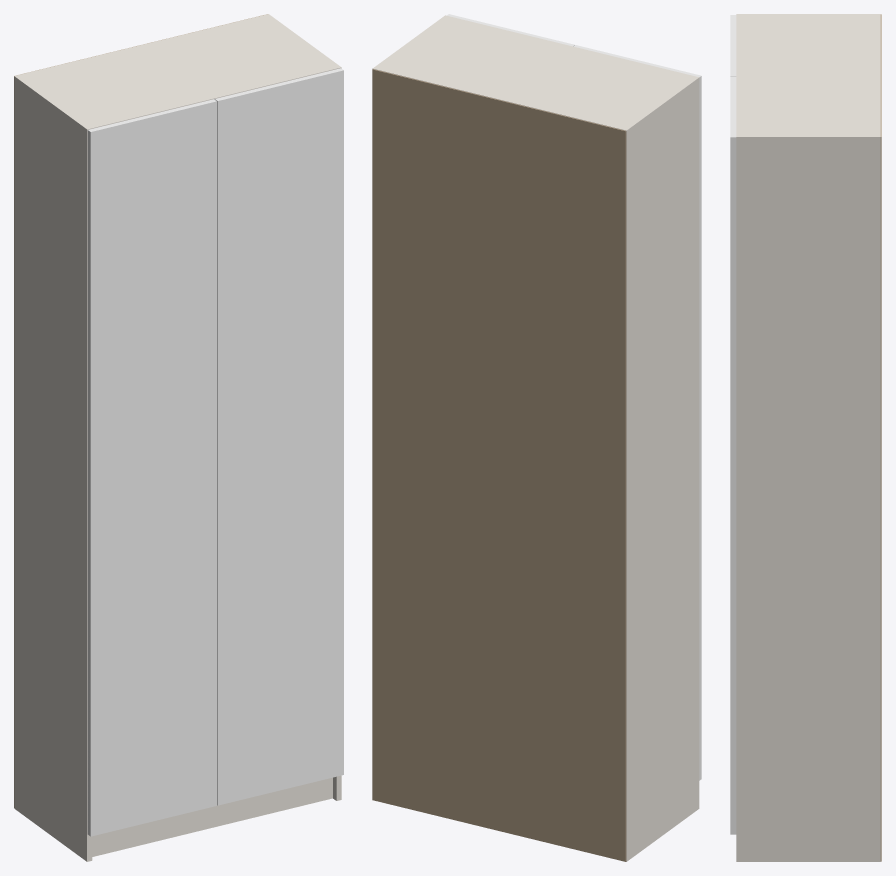
The model's file is шкаф.dae.
The picture shows the model from 3 angles, left to right: view 1: azimuth 30°, elevation 25°; view 2: azimuth 150°, elevation 25°; view 3: azimuth 270°, elevation 25°; orthographic projection.
Visible parts, largest first — view 1: Есік (сол), Есік (оң), Бүйір (сол), Төбе, Цоколь алдыңғы, Артқы қабырға, Бүйір (оң); view 2: Артқы қабырға, Бүйір (сол), Төбе, Есік (сол); view 3: Бүйір (оң), Төбе, Есік (оң), Артқы қабырға, Бүйір (сол), Есік (сол).
Boxes of the visible parts, x1=… form: Есік (сол): x1=87, y1=99, x2=216, y2=836; Есік (оң): x1=214, y1=68, x2=343, y2=805; Бүйір (сол): x1=14, y1=75, x2=92, y2=861; Төбе: x1=19, y1=15, x2=336, y2=128; Цоколь алдыңғы: x1=92, y1=777, x2=332, y2=856; Артқы қабырға: x1=14, y1=14, x2=267, y2=807; Бүйір (оң): x1=264, y1=14, x2=341, y2=800; Артқы қабырға: x1=372, y1=69, x2=626, y2=861; Бүйір (сол): x1=622, y1=76, x2=699, y2=861; Төбе: x1=378, y1=16, x2=693, y2=129; Есік (сол): x1=573, y1=45, x2=701, y2=780; Бүйір (оң): x1=736, y1=134, x2=880, y2=861; Төбе: x1=736, y1=16, x2=880, y2=134; Есік (оң): x1=730, y1=76, x2=736, y2=834; Артқы қабырға: x1=880, y1=14, x2=881, y2=861; Бүйір (сол): x1=736, y1=14, x2=880, y2=16; Есік (сол): x1=730, y1=15, x2=736, y2=76.
Size of the model in its own units: 800 by 416 by 2200.
